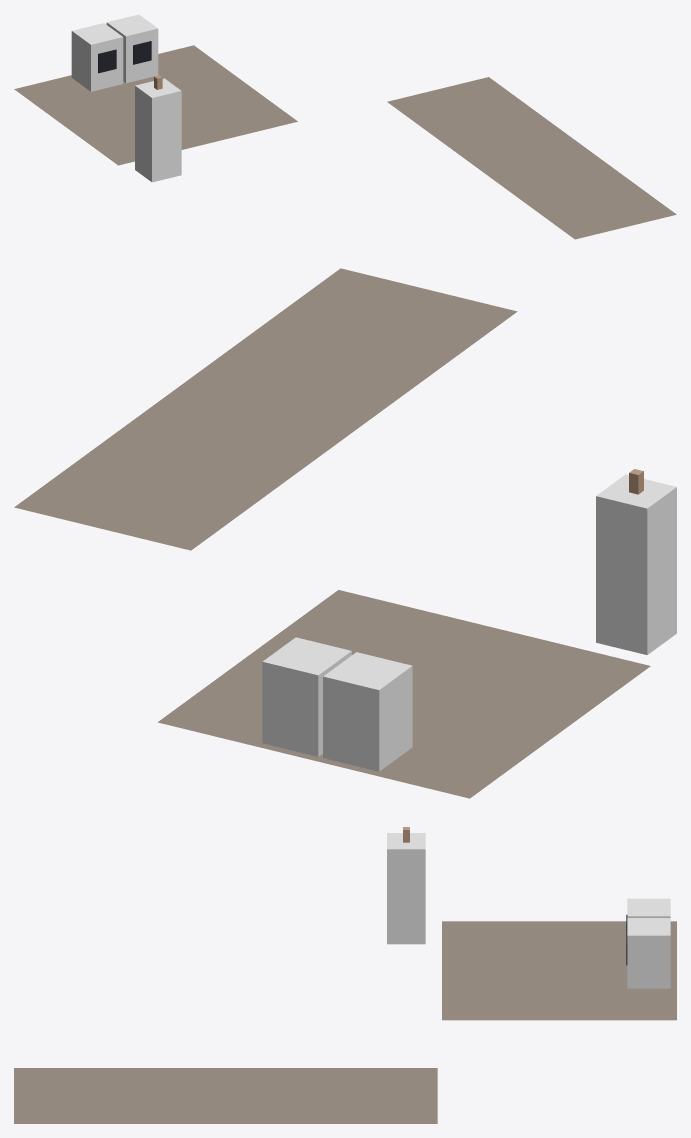
The model's file is fine-s0.glb.
3 views of the same model, one above another, from view 1: azimuth 30°, elevation 25°; view 2: azimuth 150°, elevation 25°; view 3: azimuth 270°, elevation 25° (orthographic). The views are drawn at different scales.
Visible parts, largest first — view 1: soft-s0, water-heater.000, washer.000, washer.001; view 2: soft-s0, water-heater.000, washer.000, washer.001; view 3: soft-s0, water-heater.000, washer.001, washer.000.
Part boxes in pixels (x1,y1,x2,y2): soft-s0: [14, 45, 676, 239]; water-heater.000: [135, 75, 181, 182]; washer.000: [71, 23, 123, 91]; washer.001: [106, 14, 158, 83]; soft-s0: [14, 268, 650, 798]; water-heater.000: [596, 469, 676, 654]; washer.000: [323, 652, 412, 771]; washer.001: [262, 637, 351, 756]; soft-s0: [14, 921, 676, 1123]; water-heater.000: [387, 827, 425, 944]; washer.001: [626, 918, 670, 988]; washer.000: [626, 898, 670, 933].
Bounding box in the file's own units: 6.86 × 1.7 × 9.48.
